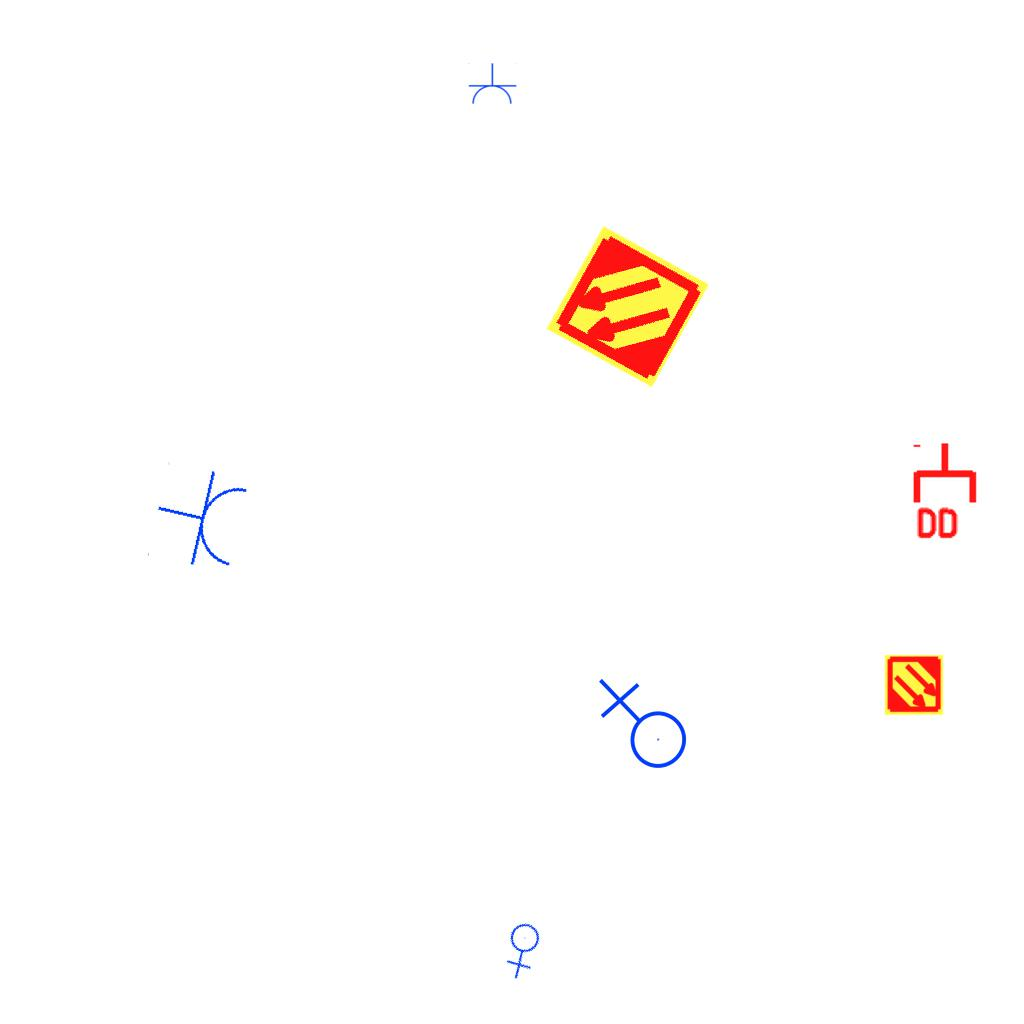ASR_Ansaugrauchmelder: (542, 221, 713, 392), (883, 654, 945, 716)
Datenanschluss_zweifach: (912, 440, 981, 543)
Elektroanschluss_allgemein_230V_Geraeteanschlussdose_230V: (594, 678, 688, 777), (491, 915, 558, 982)
Schukosteckdose_einfach: (146, 459, 254, 578), (467, 63, 517, 106)
